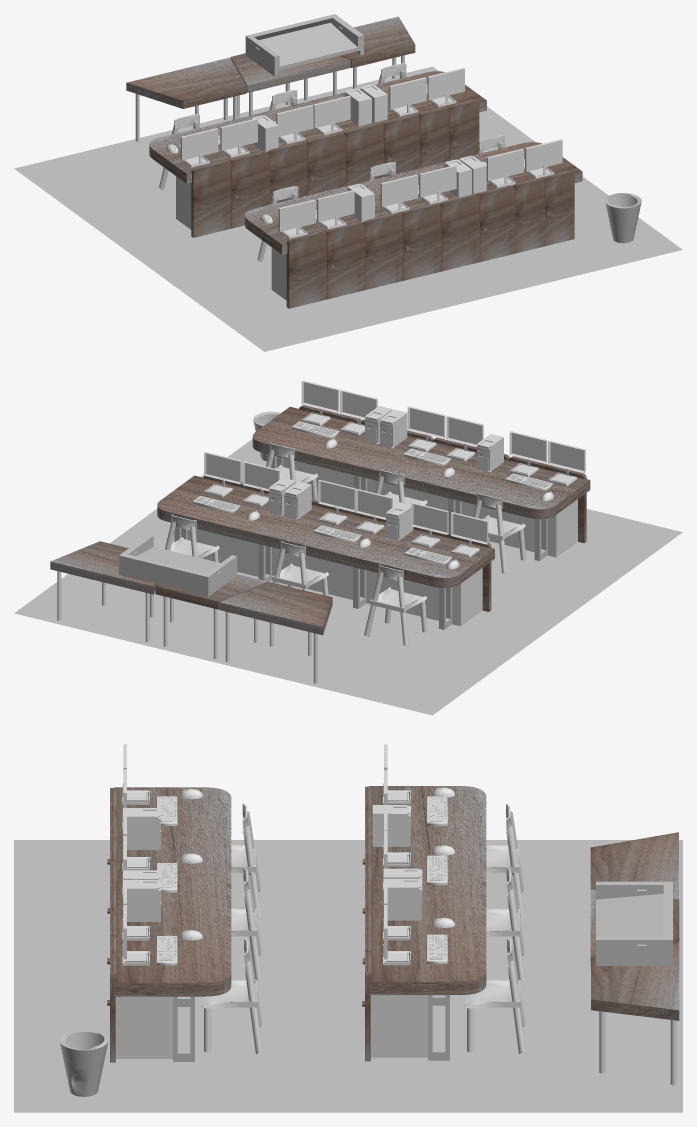
The model's file is lab-rows.fbx.
3 renders of one model, top to bottom at view 1: azimuth 30°, elevation 25°; view 2: azimuth 150°, elevation 25°; view 3: azimuth 270°, elevation 25°, orthographic. The views are drawn at different scales.
Visible parts, largest first — view 1: floor finished., Box017, Box001, Box021, tablew top002, Box010, Box030, Box032, Box034, Box033, Box031, Box035 (+32 smaller); view 2: floor finished., Box001, Box021, Box006, Box026, Box017, tablew top002, tablew top, Insaaf_Seat, Nceba_Seat, Chulu's Seat, tablew top001 (+25 smaller); view 3: floor finished., Box021, Box001, Box017, tablew top, tablew top002, Box006, Box026, bin, Adolph_Seat, Naledi's Seat, Nceba_Seat (+12 smaller).
Part boxes in pixels (x1=…): floor finished.: x1=14, y1=66, x2=682, y2=351; Box017: x1=245, y1=14, x2=363, y2=76; Box001: x1=149, y1=71, x2=486, y2=183; Box021: x1=244, y1=142, x2=582, y2=254; tablew top002: x1=126, y1=57, x2=246, y2=108; Box010: x1=191, y1=159, x2=231, y2=237; Box030: x1=286, y1=230, x2=326, y2=308; Box032: x1=363, y1=211, x2=403, y2=289; Box034: x1=440, y1=193, x2=479, y2=271; Box033: x1=401, y1=203, x2=441, y2=280; Box031: x1=325, y1=222, x2=365, y2=299; Box035: x1=478, y1=185, x2=515, y2=261; floor finished.: x1=14, y1=439, x2=682, y2=715; Box001: x1=157, y1=475, x2=494, y2=587; Box021: x1=252, y1=406, x2=590, y2=519; Box006: x1=187, y1=529, x2=482, y2=626; Box026: x1=283, y1=458, x2=577, y2=557; Box017: x1=119, y1=534, x2=237, y2=596; tablew top002: x1=219, y1=582, x2=332, y2=635; tablew top: x1=50, y1=541, x2=155, y2=594; Insaaf_Seat: x1=364, y1=564, x2=427, y2=646; Nceba_Seat: x1=272, y1=541, x2=328, y2=596; Chulu's Seat: x1=473, y1=492, x2=525, y2=574; tablew top001: x1=155, y1=574, x2=267, y2=609; floor finished.: x1=14, y1=840, x2=682, y2=1112; Box021: x1=114, y1=787, x2=231, y2=996; Box001: x1=369, y1=786, x2=486, y2=994; Box017: x1=596, y1=881, x2=672, y2=965; tablew top: x1=591, y1=943, x2=679, y2=1020; tablew top002: x1=590, y1=832, x2=678, y2=899; Box006: x1=370, y1=995, x2=427, y2=1057; Box026: x1=115, y1=996, x2=172, y2=1058; bin: x1=59, y1=1029, x2=108, y2=1096; Adolph_Seat: x1=464, y1=938, x2=525, y2=1053; Naledi's Seat: x1=201, y1=938, x2=262, y2=1053; Nceba_Seat: x1=486, y1=867, x2=524, y2=981.
Size of the model in its own units: 110 by 25.02 by 114.
